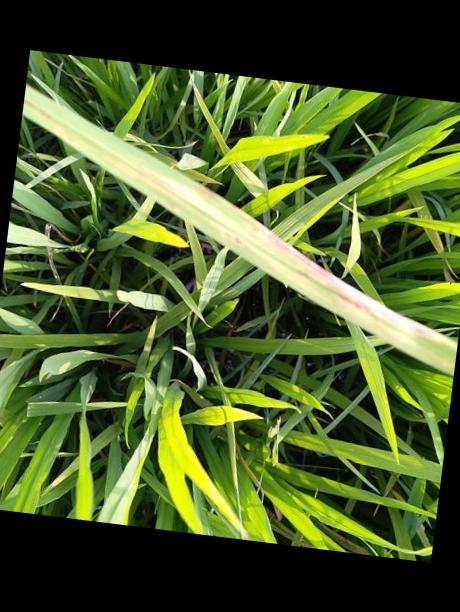Leaf Streak: (155, 163, 457, 361)
